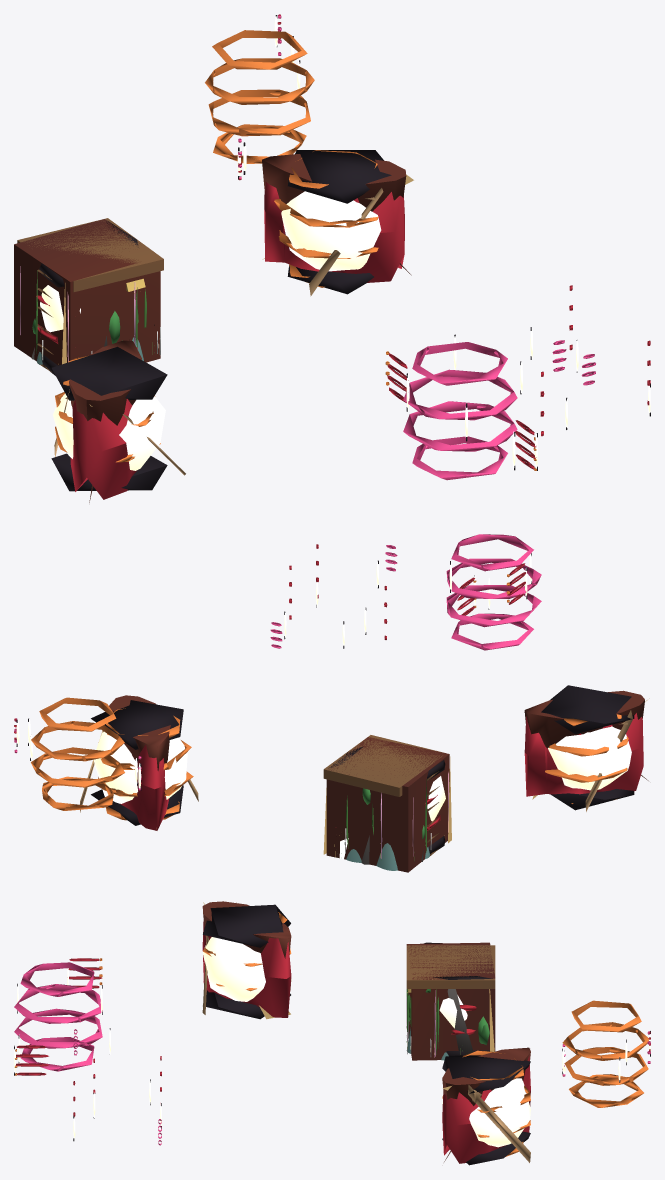
File: ile-marais-v4-leger.glb
3 views of the same model, one above another, from view 1: azimuth 30°, elevation 25°; view 2: azimuth 150°, elevation 25°; view 3: azimuth 270°, elevation 25° (orthographic). The views are drawn at different scales.
Parts seen in each view (by area): view 1: marais_decor, marais_barque1, marais_barque0, marais_lanternes1, marais_lanternes0, marais_lanternes2; view 2: marais_decor, marais_barque0, marais_barque1, marais_lanternes1, marais_lanternes0, marais_lanternes2, marais_terrain; view 3: marais_decor, marais_barque0, marais_barque1, marais_lanternes1, marais_lanternes0, marais_lanternes2.
Boxes of the visible parts, bbox=[...] form: marais_decor: bbox=[14, 218, 163, 375]; marais_barque1: bbox=[262, 150, 413, 296]; marais_barque0: bbox=[51, 339, 185, 502]; marais_lanternes1: bbox=[385, 334, 537, 480]; marais_lanternes0: bbox=[205, 14, 314, 180]; marais_lanternes2: bbox=[520, 285, 650, 436]; marais_decor: bbox=[323, 735, 451, 872]; marais_barque0: bbox=[524, 685, 649, 811]; marais_barque1: bbox=[80, 695, 198, 830]; marais_lanternes1: bbox=[446, 534, 541, 650]; marais_lanternes0: bbox=[14, 697, 141, 810]; marais_lanternes2: bbox=[270, 544, 397, 648]; marais_terrain: bbox=[346, 843, 429, 870]; marais_decor: bbox=[406, 942, 495, 1060]; marais_barque0: bbox=[202, 901, 291, 1019]; marais_barque1: bbox=[442, 1047, 530, 1165]; marais_lanternes1: bbox=[14, 958, 102, 1075]; marais_lanternes0: bbox=[562, 1000, 650, 1107]; marais_lanternes2: bbox=[73, 1028, 161, 1145].
Bounding box in the file's own units: 9.87 × 3.29 × 14.36.
